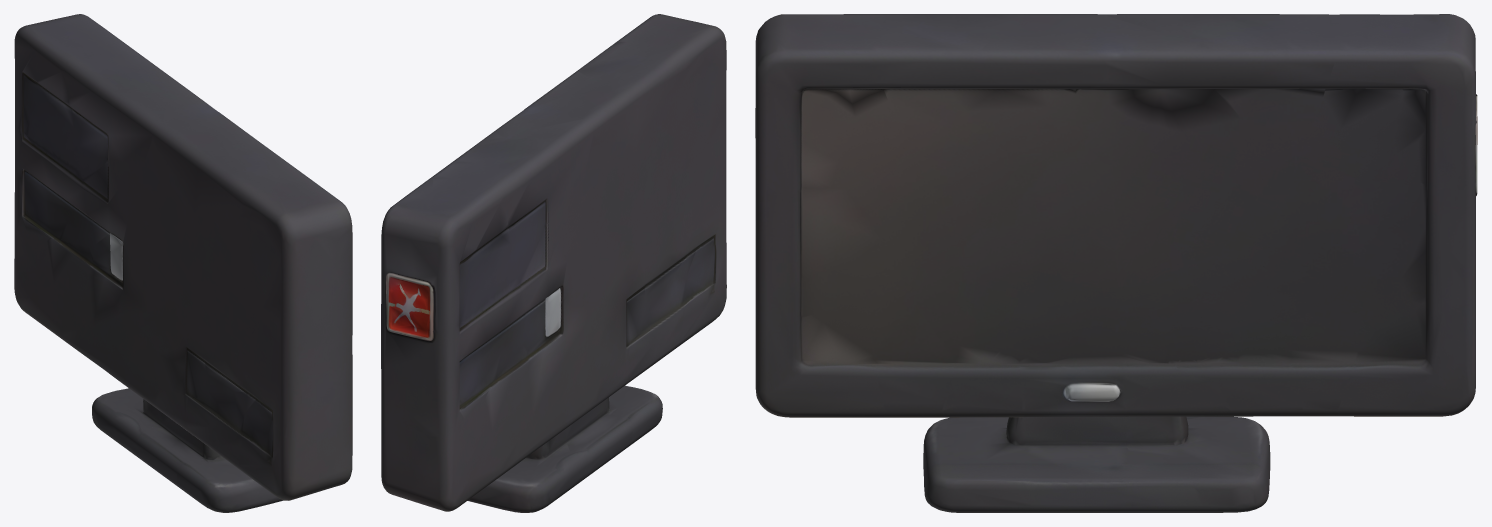
The picture shows the model from 3 angles, left to right: view 1: azimuth 30°, elevation 25°; view 2: azimuth 150°, elevation 25°; view 3: azimuth 270°, elevation 25°; orthographic projection. The views are drawn at different scales.
Parts seen in each view (by area): view 1: tripo_node_72aecca2-4d22-42cb-888f-690480861af5; view 2: tripo_node_72aecca2-4d22-42cb-888f-690480861af5; view 3: tripo_node_72aecca2-4d22-42cb-888f-690480861af5.
Boxes of the visible parts, x1,y1,x2,y2 form: tripo_node_72aecca2-4d22-42cb-888f-690480861af5: (14, 14, 352, 512); tripo_node_72aecca2-4d22-42cb-888f-690480861af5: (381, 14, 726, 512); tripo_node_72aecca2-4d22-42cb-888f-690480861af5: (755, 14, 1477, 512).
Bounding box in the file's own units: 0.2155 × 0.6845 × 0.9998.
Materials: 1 (1 with a texture image).
